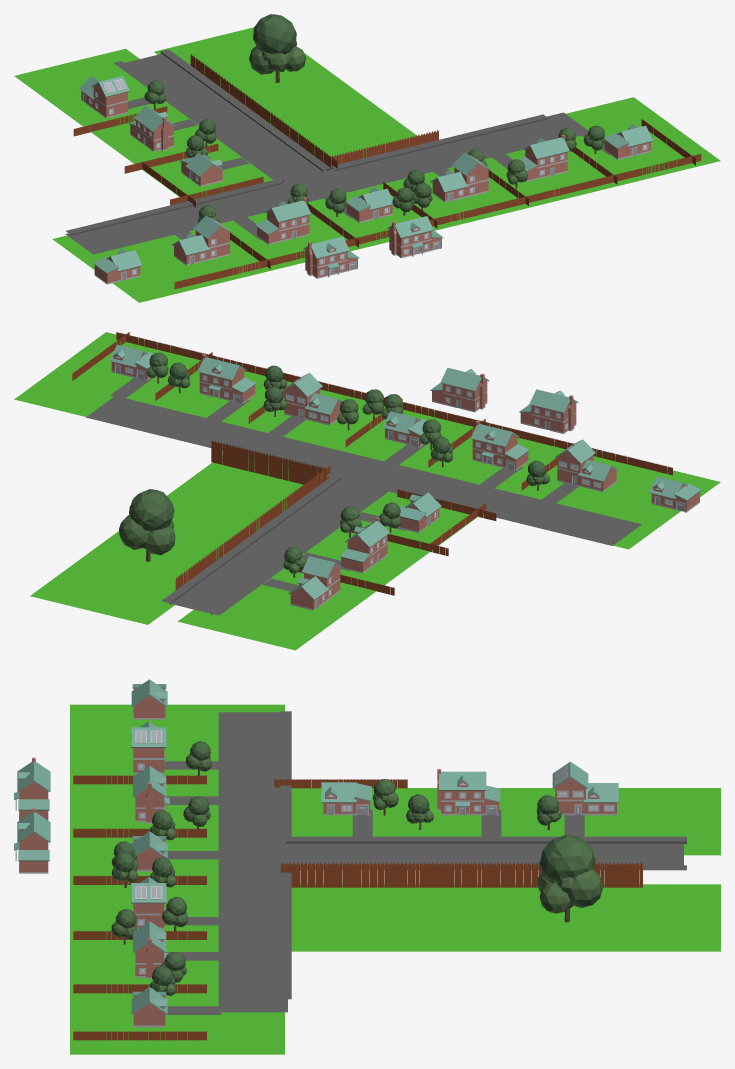
The model's file is exterior.glb.
3 views of the same model, one above another, from view 1: azimuth 30°, elevation 25°; view 2: azimuth 150°, elevation 25°; view 3: azimuth 270°, elevation 25° (orthographic). The views are drawn at different scales.
Visible parts, largest first — view 1: exterior; view 2: exterior; view 3: exterior.
Boxes of the visible parts, left/top/right/bottom form: exterior: left=14, top=14, right=720, bottom=302; exterior: left=14, top=332, right=720, bottom=650; exterior: left=14, top=679, right=720, bottom=1054.
Bounding box in the file's own units: 43.49 × 4.99 × 36.65.
Materials: 98 (14 with a texture image).
